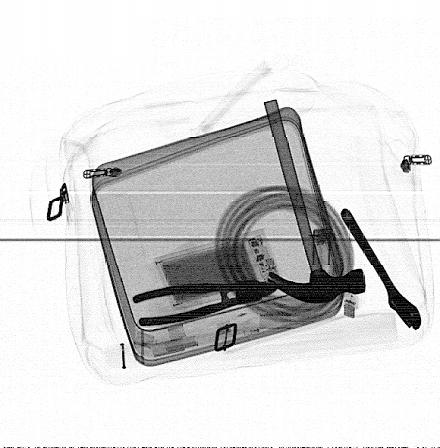Hammer: (264, 99, 366, 304)
Pliers: (133, 279, 283, 326)
Powerbank: (153, 228, 287, 312)
Wrench: (340, 208, 423, 330)
